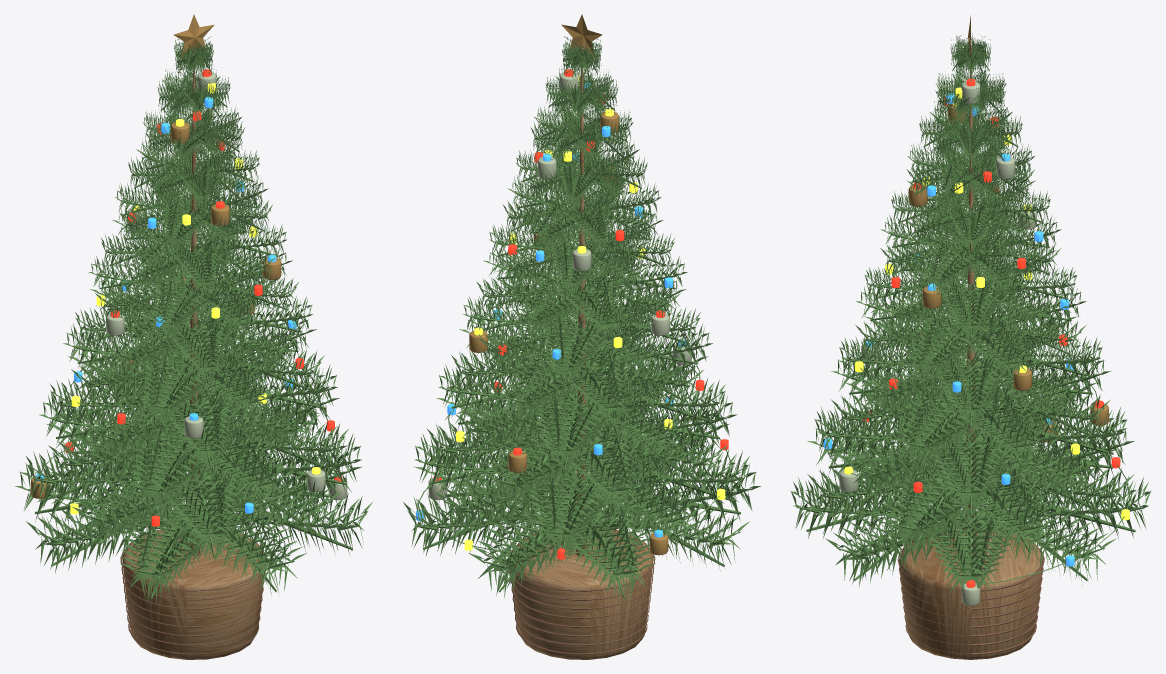
The model's file is christmas-tree.glb.
The picture shows the model from 3 angles, left to right: view 1: azimuth 30°, elevation 25°; view 2: azimuth 150°, elevation 25°; view 3: azimuth 270°, elevation 25°; orthographic projection.
Visible parts, largest first — view 1: catalog_surface_RealismUV, catalog_surface_UVMap, linked_bough_0_5, linked_bough_0_6, linked_bough_1_4, linked_bough_1_5, linked_bough_0_4, linked_bough_2_5, linked_bough_0_7, linked_bough_1_6, linked_bough_2_6, linked_bough_2_4 (+62 smaller); view 2: catalog_surface_RealismUV, catalog_surface_UVMap, linked_bough_0_2, linked_bough_0_3, linked_bough_1_2, linked_bough_1_1, linked_bough_1_3, linked_bough_0_1, linked_bough_0_4, linked_bough_2_3, linked_bough_2_2, linked_bough_3_1 (+62 smaller); view 3: catalog_surface_RealismUV, catalog_surface_UVMap, linked_bough_0_7, linked_bough_0_0, linked_bough_1_7, linked_bough_1_0, linked_bough_0_1, linked_bough_2_7, linked_bough_2_0, linked_bough_1_1, linked_bough_2_1, linked_bough_3_7 (+59 smaller).
Part boxes in pixels (x1=…): catalog_surface_RealismUV: x1=31, y1=14, x2=347, y2=659; catalog_surface_UVMap: x1=36, y1=69, x2=342, y2=526; linked_bough_0_5: x1=120, y1=502, x2=238, y2=603; linked_bough_0_6: x1=164, y1=493, x2=306, y2=597; linked_bough_1_4: x1=72, y1=458, x2=212, y2=549; linked_bough_1_5: x1=146, y1=465, x2=250, y2=562; linked_bough_0_4: x1=26, y1=482, x2=186, y2=573; linked_bough_2_5: x1=130, y1=426, x2=232, y2=516; linked_bough_0_7: x1=208, y1=478, x2=372, y2=554; linked_bough_1_6: x1=193, y1=447, x2=340, y2=533; linked_bough_2_6: x1=169, y1=418, x2=292, y2=510; linked_bough_2_4: x1=48, y1=411, x2=189, y2=490; catalog_surface_RealismUV: x1=428, y1=14, x2=691, y2=659; catalog_surface_UVMap: x1=416, y1=69, x2=730, y2=559; linked_bough_0_2: x1=468, y1=494, x2=610, y2=597; linked_bough_0_3: x1=537, y1=500, x2=655, y2=602; linked_bough_1_2: x1=525, y1=466, x2=630, y2=562; linked_bough_1_1: x1=434, y1=451, x2=583, y2=538; linked_bough_1_3: x1=563, y1=452, x2=703, y2=549; linked_bough_0_1: x1=403, y1=482, x2=567, y2=556; linked_bough_0_4: x1=589, y1=482, x2=749, y2=570; linked_bough_2_3: x1=542, y1=425, x2=645, y2=515; linked_bough_2_2: x1=483, y1=421, x2=606, y2=511; linked_bough_3_1: x1=455, y1=379, x2=582, y2=454; catalog_surface_RealismUV: x1=839, y1=15, x2=1108, y2=659; catalog_surface_UVMap: x1=823, y1=78, x2=1130, y2=587; linked_bough_0_7: x1=825, y1=490, x2=981, y2=586; linked_bough_0_0: x1=917, y1=506, x2=1025, y2=605; linked_bough_1_7: x1=883, y1=459, x2=1002, y2=557; linked_bough_1_0: x1=936, y1=457, x2=1058, y2=556; linked_bough_0_1: x1=960, y1=489, x2=1116, y2=586; linked_bough_2_7: x1=844, y1=417, x2=980, y2=502; linked_bough_2_0: x1=922, y1=430, x2=1016, y2=517; linked_bough_1_1: x1=983, y1=443, x2=1134, y2=522; linked_bough_2_1: x1=961, y1=411, x2=1097, y2=498; linked_bough_3_7: x1=895, y1=386, x2=1000, y2=471.
Size of the model in its own units: 1 by 1.9 by 1.
Materials: 8 (1 with a texture image).
